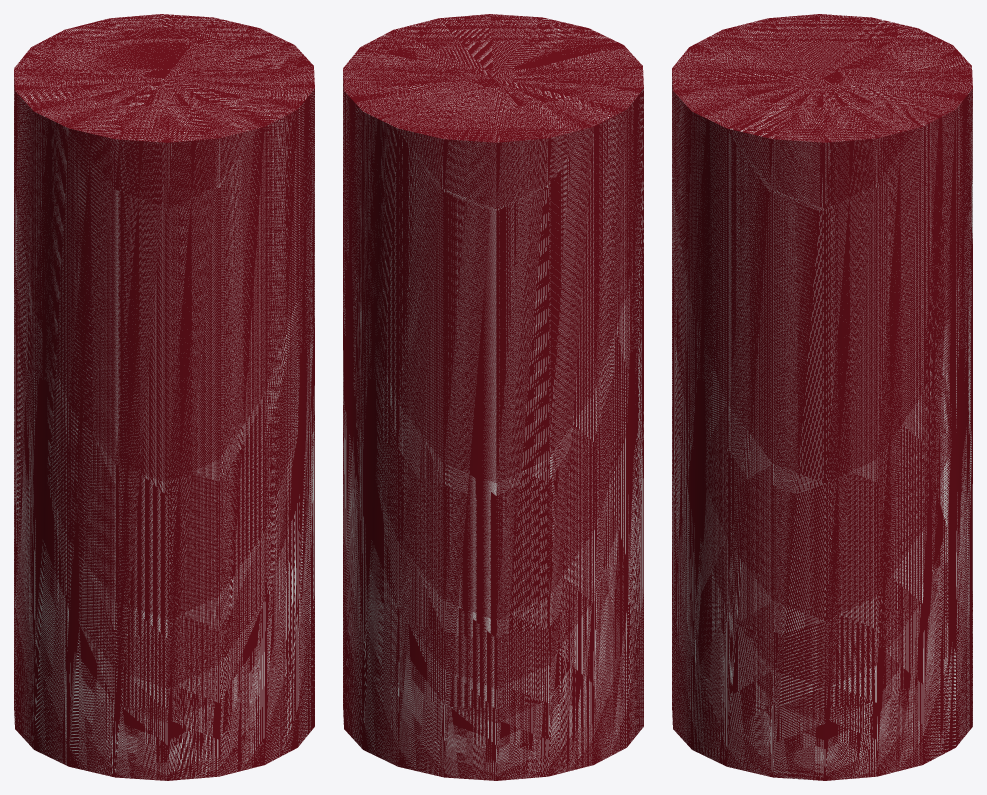
File: original-7.obj
3 renders of one model, left to right at view 1: azimuth 30°, elevation 25°; view 2: azimuth 150°, elevation 25°; view 3: azimuth 270°, elevation 25°, orthographic.
Visible parts, largest first — view 1: mesh7/mesh7-geometry#mesh7-geometry; view 2: mesh7/mesh7-geometry#mesh7-geometry; view 3: mesh7/mesh7-geometry#mesh7-geometry.
Part boxes in pixels (<box>): mesh7/mesh7-geometry#mesh7-geometry: <box>14,14,314,780</box>; mesh7/mesh7-geometry#mesh7-geometry: <box>343,14,643,780</box>; mesh7/mesh7-geometry#mesh7-geometry: <box>672,14,972,780</box>.
Size of the model in its own units: 0.0151 by 0.0348 by 0.0149.
